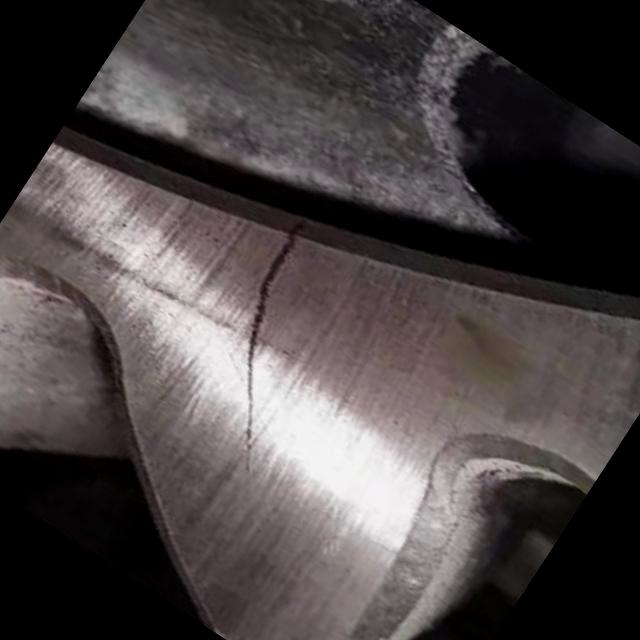defect: (231, 218, 313, 488)
